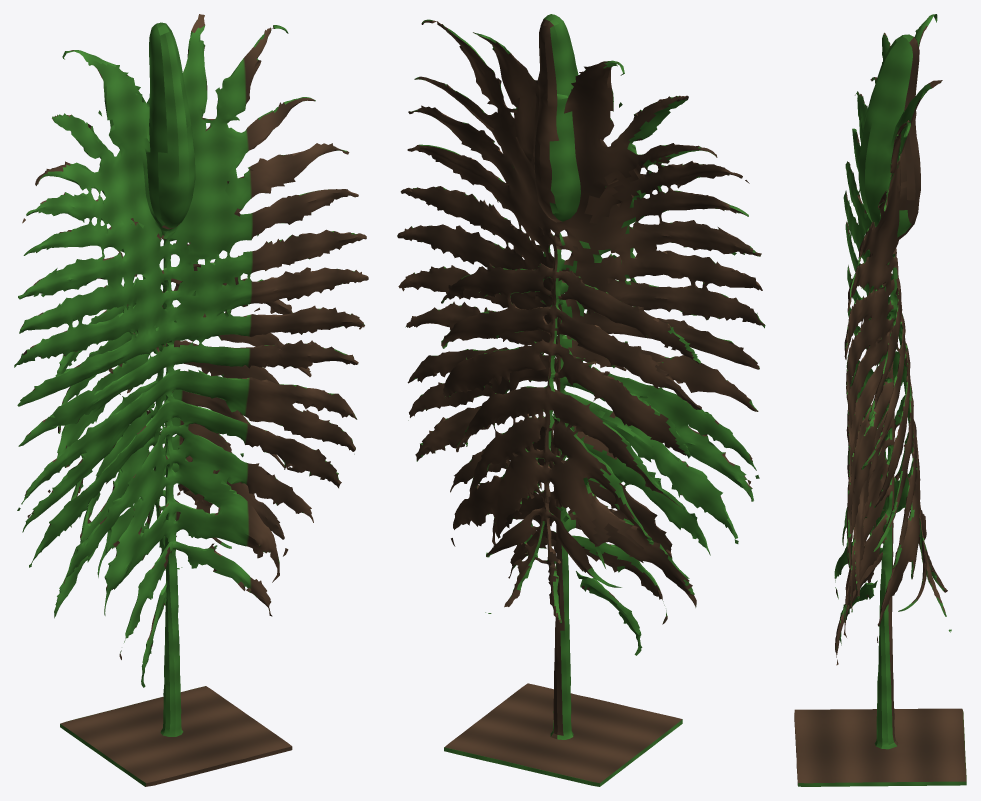
The model's file is veg_ground_ostrich_01.glb.
The picture shows the model from 3 angles, left to right: view 1: azimuth 30°, elevation 25°; view 2: azimuth 150°, elevation 25°; view 3: azimuth 270°, elevation 25°; orthographic projection. The views are drawn at different scales.
Parts seen in each view (by area): view 1: veg_ground_ostrich_01; view 2: veg_ground_ostrich_01; view 3: veg_ground_ostrich_01.
Part boxes in pixels (x1,y1,x2,y2): veg_ground_ostrich_01: [14, 14, 368, 786]; veg_ground_ostrich_01: [397, 14, 765, 786]; veg_ground_ostrich_01: [794, 14, 966, 786].
Bounding box in the file's own units: 3.36 × 6.39 × 1.4.
Materials: 1 (1 with a texture image).
